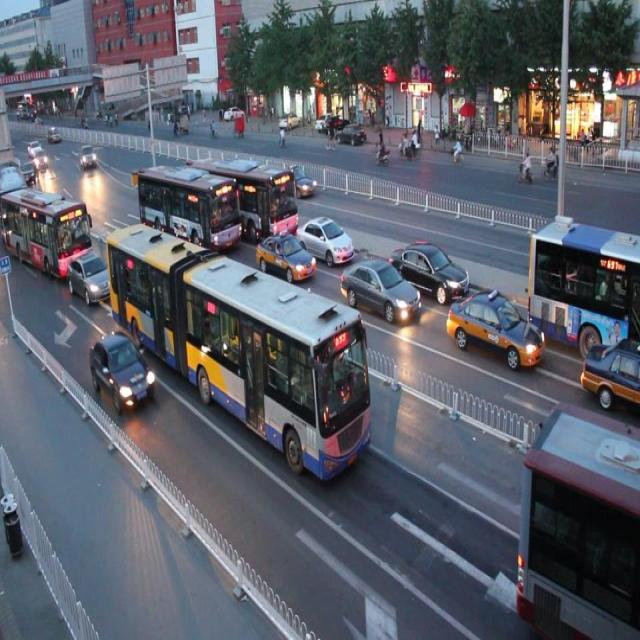car: (445, 291, 543, 372), (88, 330, 155, 414), (339, 257, 420, 326), (387, 240, 467, 304), (578, 334, 640, 408), (255, 230, 315, 284), (296, 212, 354, 264), (67, 248, 111, 303), (287, 162, 317, 199)
van: (106, 223, 372, 482), (518, 406, 640, 640), (528, 218, 640, 350), (137, 162, 241, 254), (198, 153, 298, 237), (0, 185, 90, 275)
